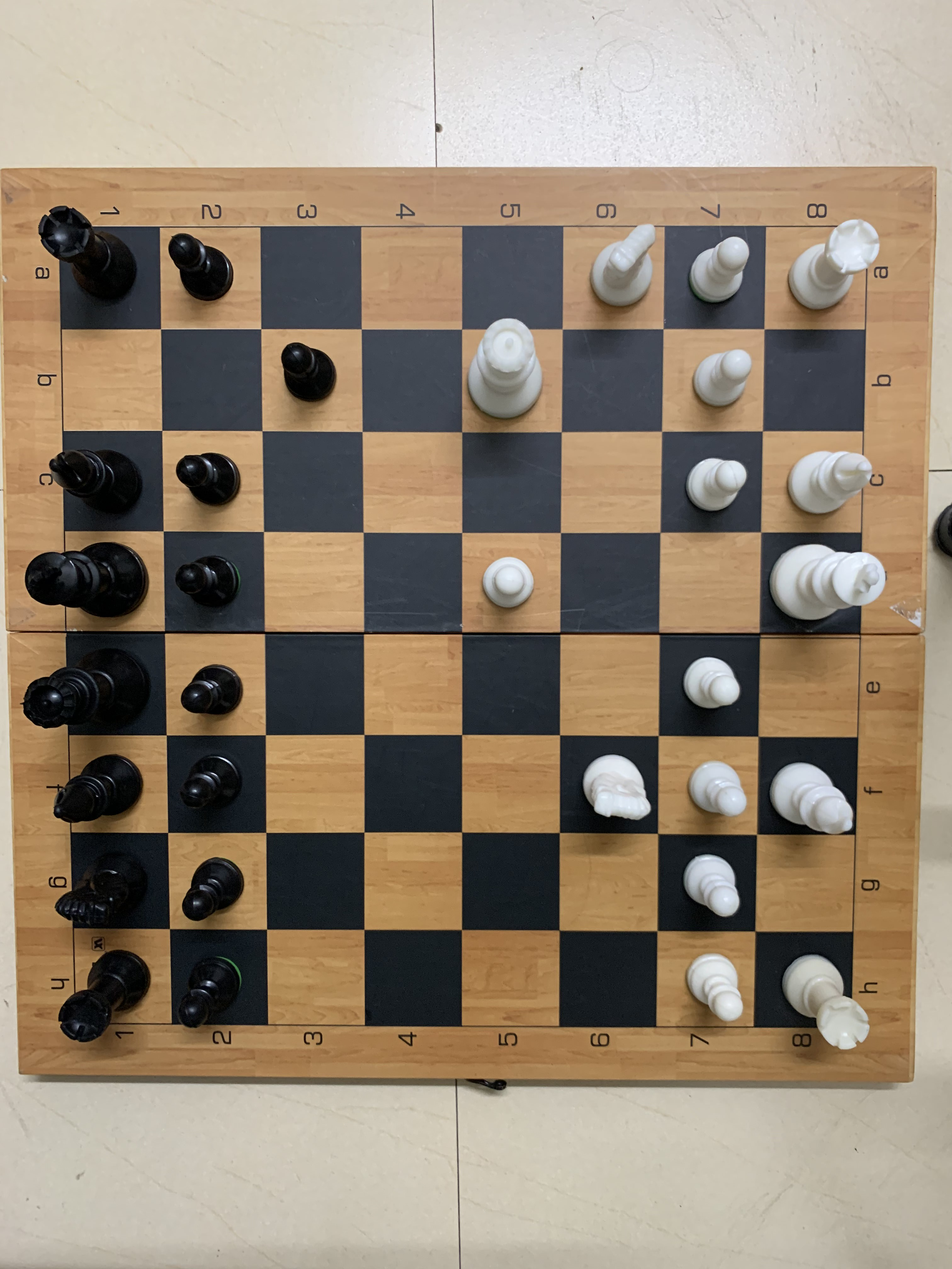black_bishop: (36, 425, 156, 531), (41, 745, 152, 844)
black_king: (20, 531, 161, 639)
black_knight: (50, 850, 152, 944)
black_pawn: (167, 937, 279, 1045), (159, 216, 254, 320), (156, 430, 268, 518), (266, 320, 351, 429), (170, 838, 265, 934), (172, 638, 259, 730), (167, 539, 258, 623), (172, 745, 246, 828)
black_queen: (19, 638, 147, 739)
black_rook: (50, 945, 161, 1051), (36, 205, 138, 305)
white_bishop: (774, 738, 872, 859), (770, 436, 886, 537)
white_king: (763, 537, 892, 635)
white_knight: (571, 738, 657, 847), (570, 227, 671, 319)
white_pawn: (671, 331, 768, 429), (664, 638, 749, 730), (669, 443, 762, 527), (674, 742, 762, 830), (669, 941, 757, 1029), (678, 222, 759, 315), (472, 539, 552, 632), (674, 845, 752, 924)
white_queen: (464, 312, 561, 430)
white_rook: (774, 211, 900, 318), (774, 938, 872, 1061)
